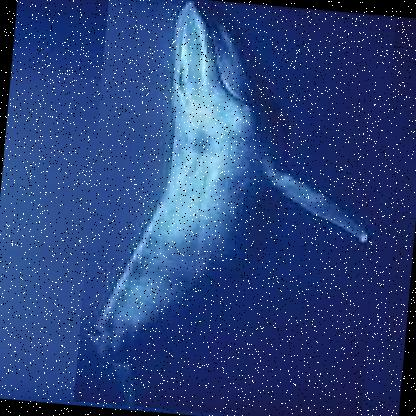blue_whale: (73, 0, 398, 415)
